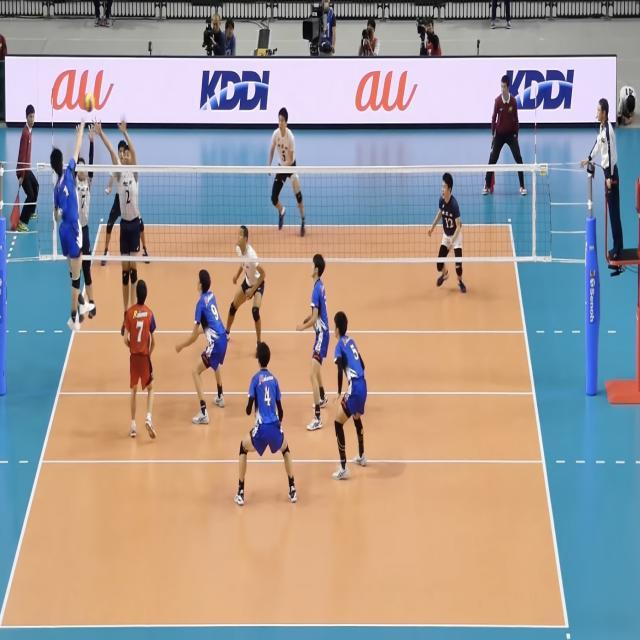spike: (50, 96, 98, 333)
